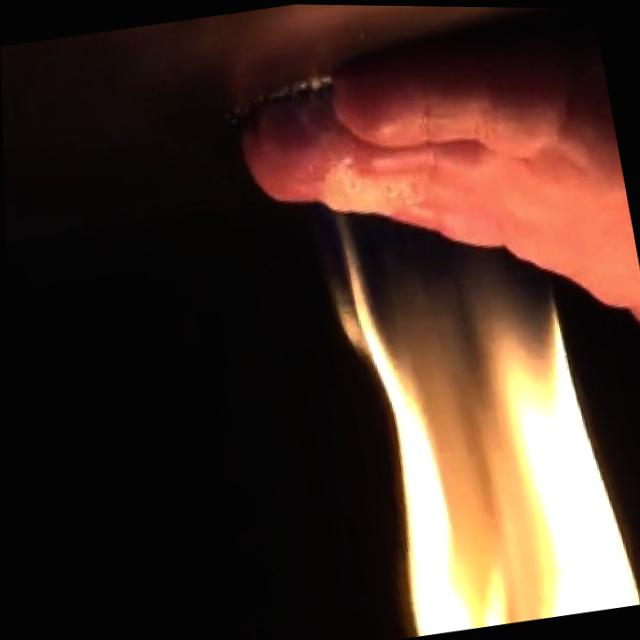helmet: (306, 155, 640, 640)
